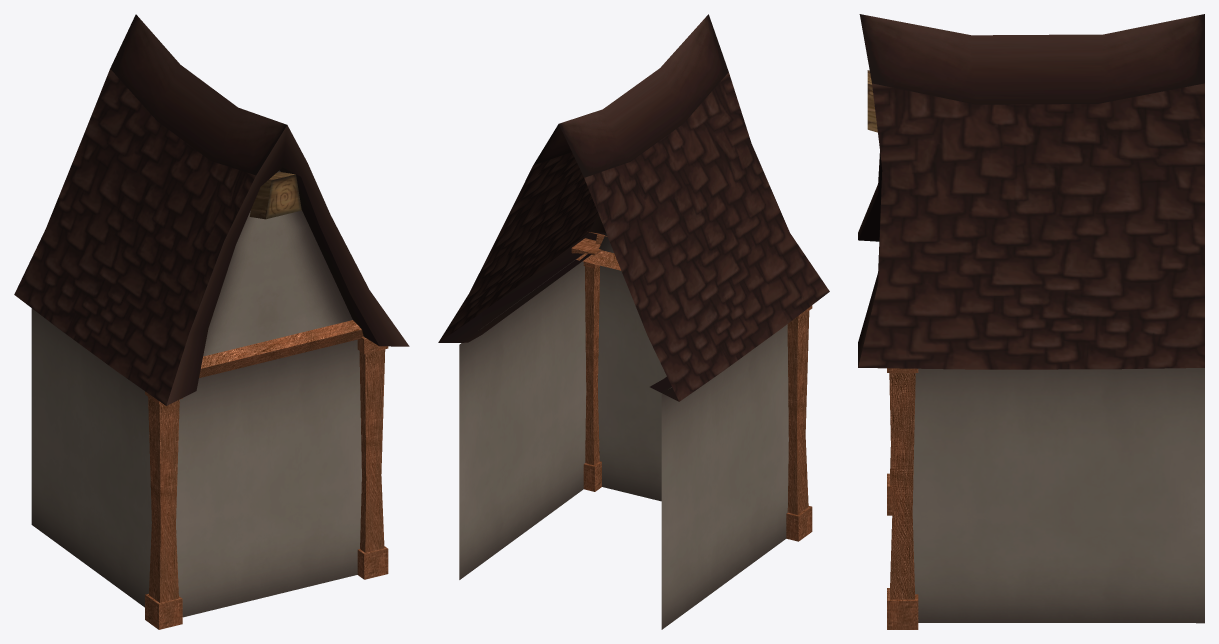
File: fanasty_mod_extention_piece_B.fbx
3 views of the same model, side by side, from view 1: azimuth 30°, elevation 25°; view 2: azimuth 150°, elevation 25°; view 3: azimuth 270°, elevation 25° (orthographic). The views are drawn at different scales.
Visible parts, largest first — view 1: extention_piece_B; view 2: extention_piece_B; view 3: extention_piece_B.
Part boxes in pixels (x1,y1,x2,y2): extention_piece_B: (14, 14, 409, 629); extention_piece_B: (438, 14, 829, 629); extention_piece_B: (858, 14, 1204, 629).
Size of the model in its own units: 3.85 by 7.33 by 4.16.
